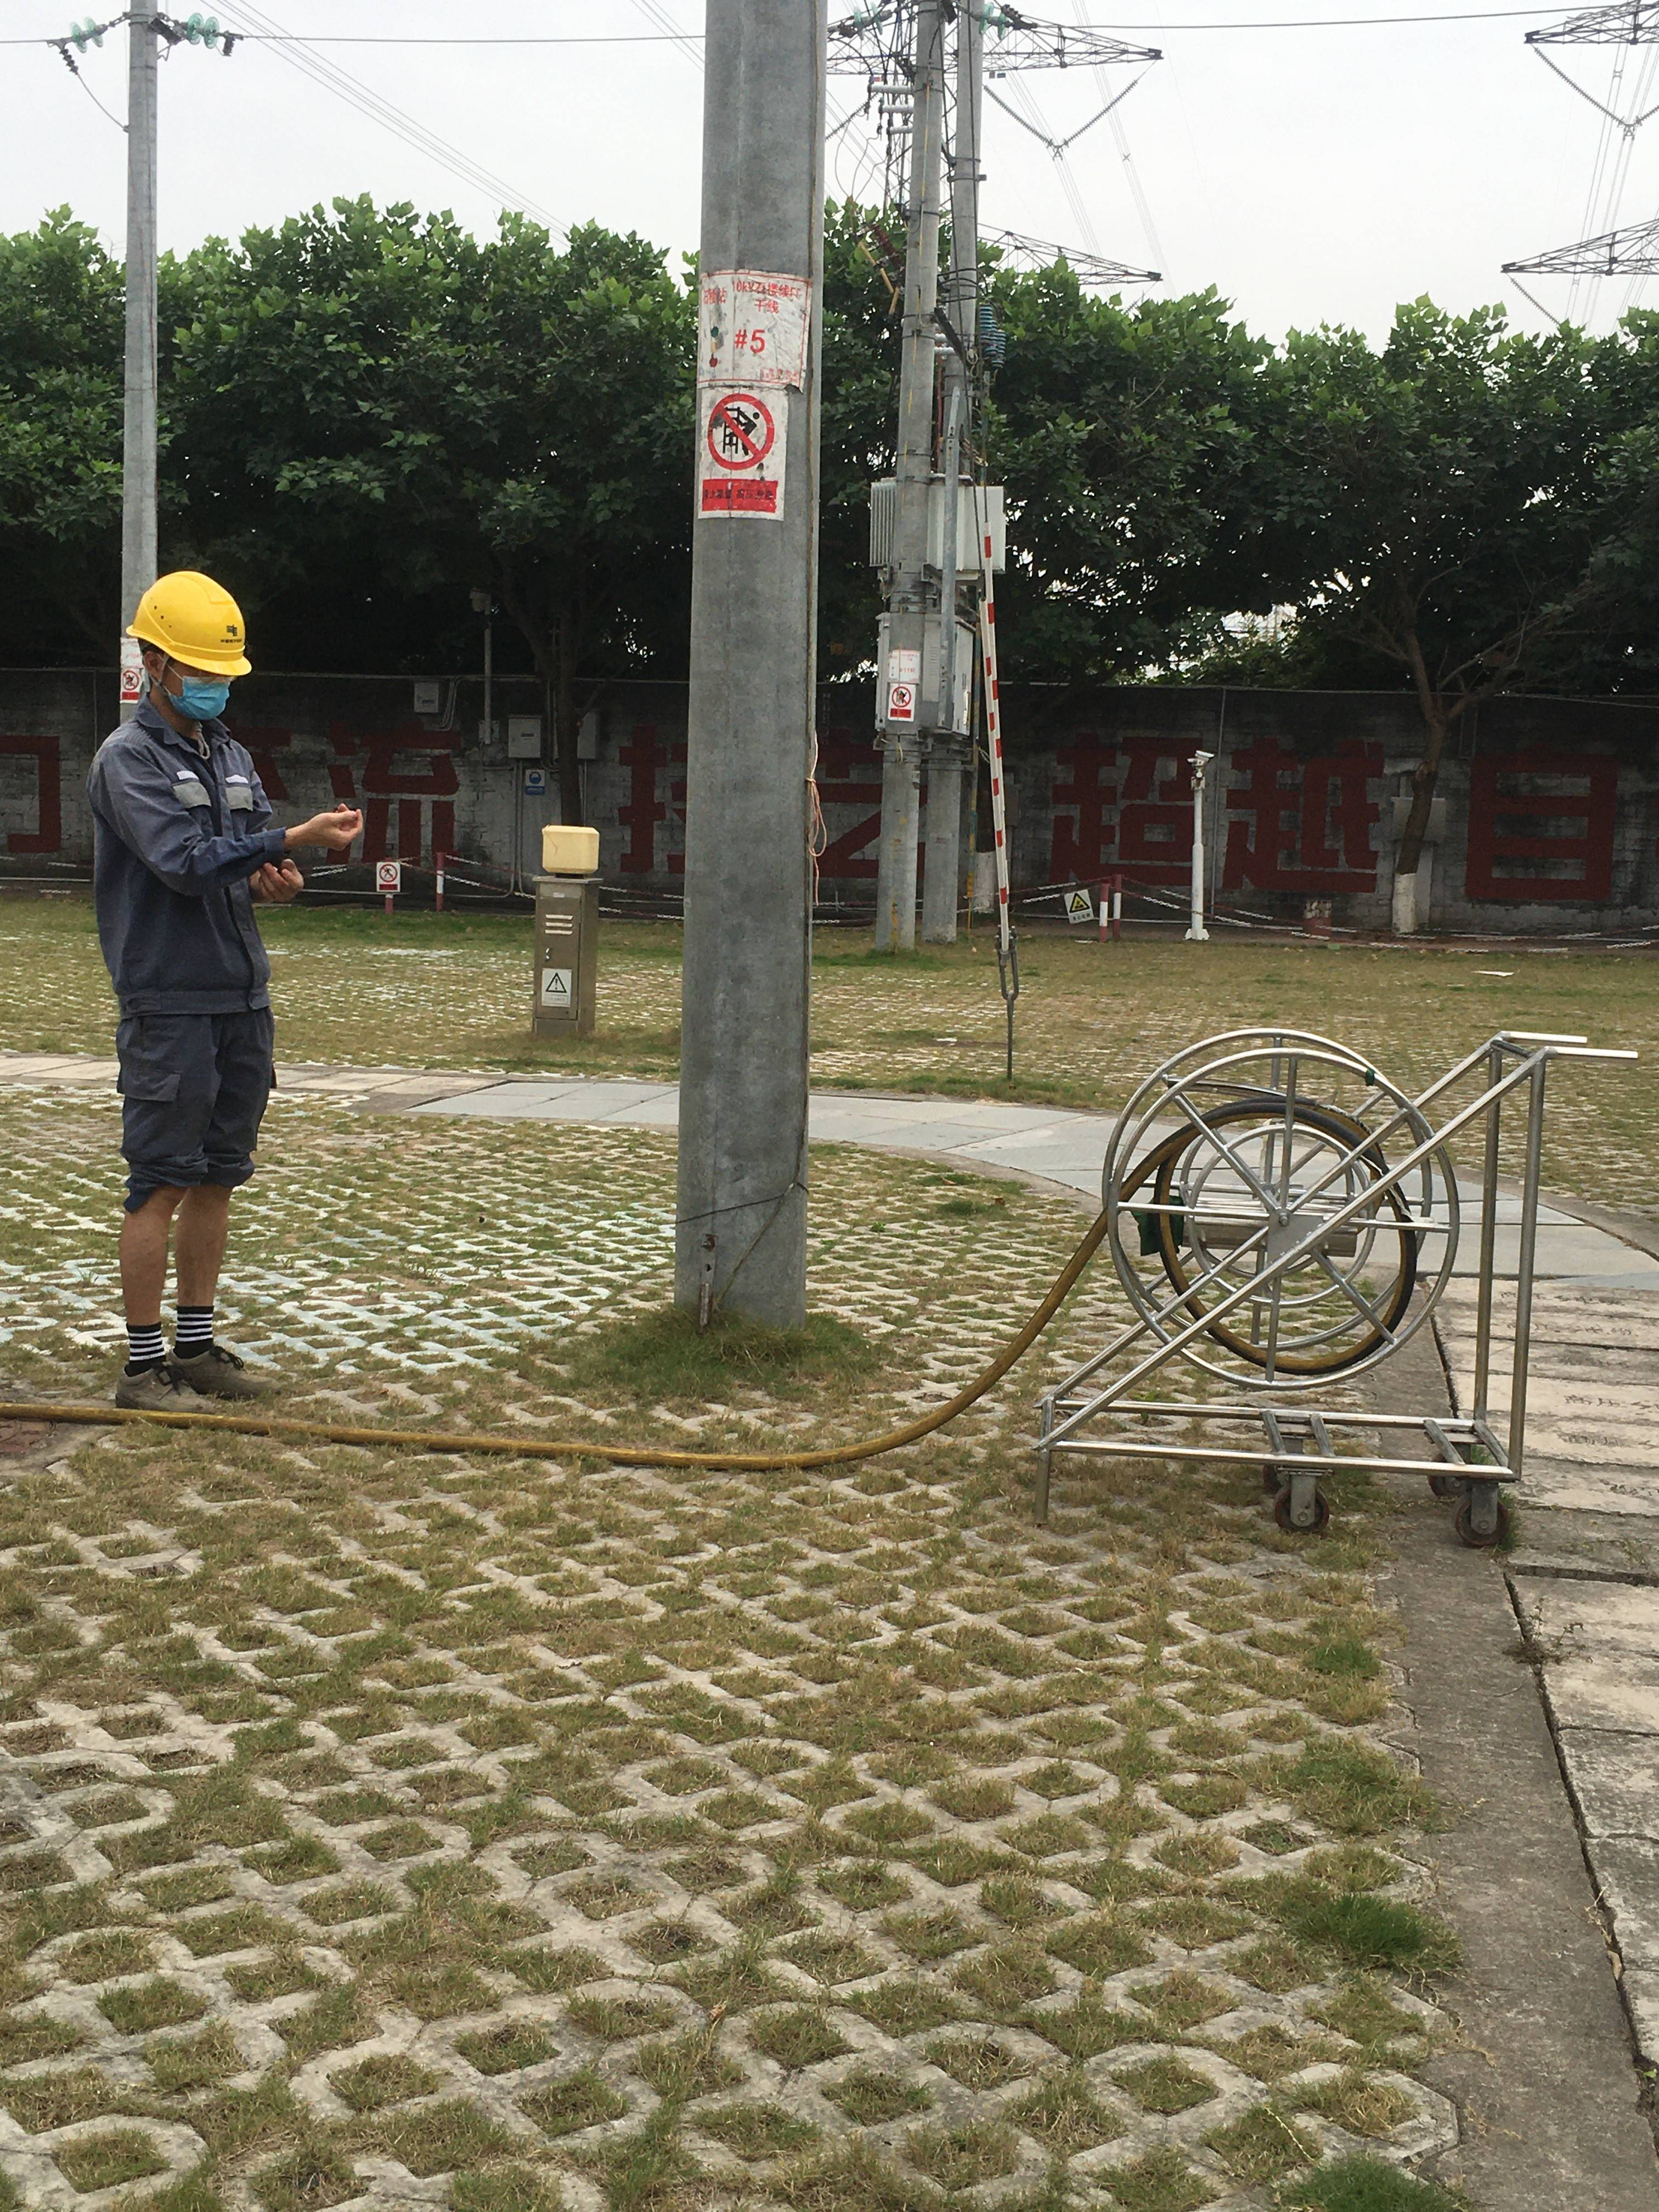downsuit: (106, 1014, 288, 1217)
upsuit: (78, 686, 288, 1007)
wrongbottom: (113, 1153, 249, 1336)
